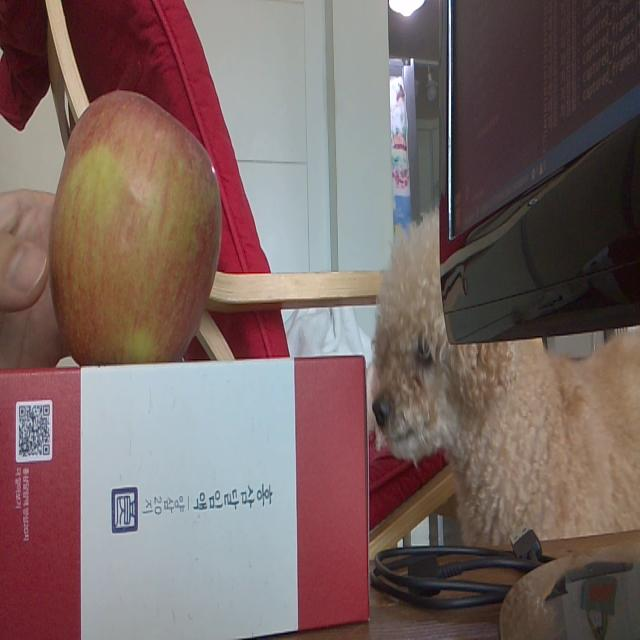apple: (48, 93, 222, 361)
